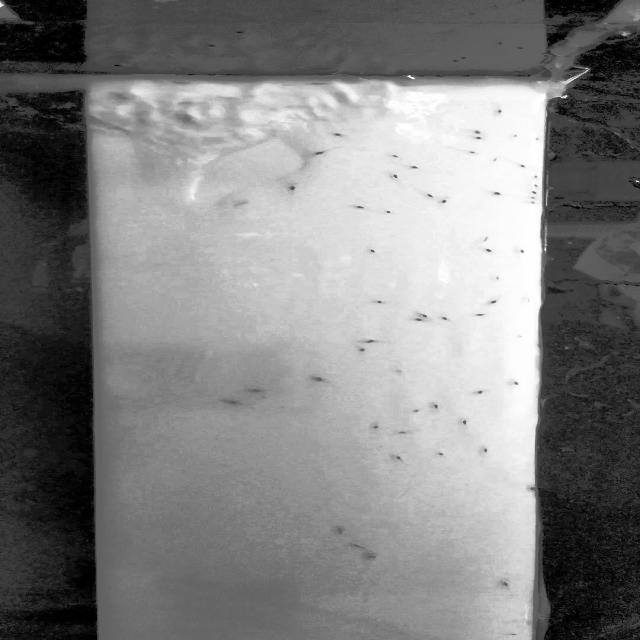shrimp: (364, 417, 389, 434), (482, 187, 510, 201), (240, 384, 270, 396), (497, 578, 515, 597), (472, 384, 492, 401), (470, 231, 490, 246), (331, 526, 356, 538), (222, 397, 245, 409), (522, 482, 543, 494), (348, 540, 367, 553), (310, 146, 330, 158), (356, 344, 376, 356), (472, 309, 490, 322), (361, 550, 380, 562), (506, 377, 526, 388), (391, 453, 412, 463), (479, 444, 494, 458), (379, 209, 398, 220), (393, 427, 409, 440), (466, 124, 483, 136), (280, 182, 300, 192), (328, 129, 346, 140), (434, 196, 452, 207), (489, 106, 505, 118), (389, 171, 405, 183), (364, 246, 383, 256), (491, 273, 505, 286), (372, 297, 388, 308), (361, 336, 377, 347), (481, 245, 498, 255), (514, 244, 528, 256), (438, 315, 454, 325), (432, 402, 445, 414), (415, 311, 430, 321), (487, 298, 502, 308), (506, 131, 522, 140), (409, 408, 425, 417), (459, 418, 472, 428), (516, 162, 530, 171), (424, 189, 436, 199), (408, 316, 423, 324), (435, 448, 447, 458), (352, 204, 366, 212), (530, 135, 542, 144), (316, 376, 328, 385), (406, 164, 419, 172), (390, 152, 400, 162), (475, 135, 486, 144)
